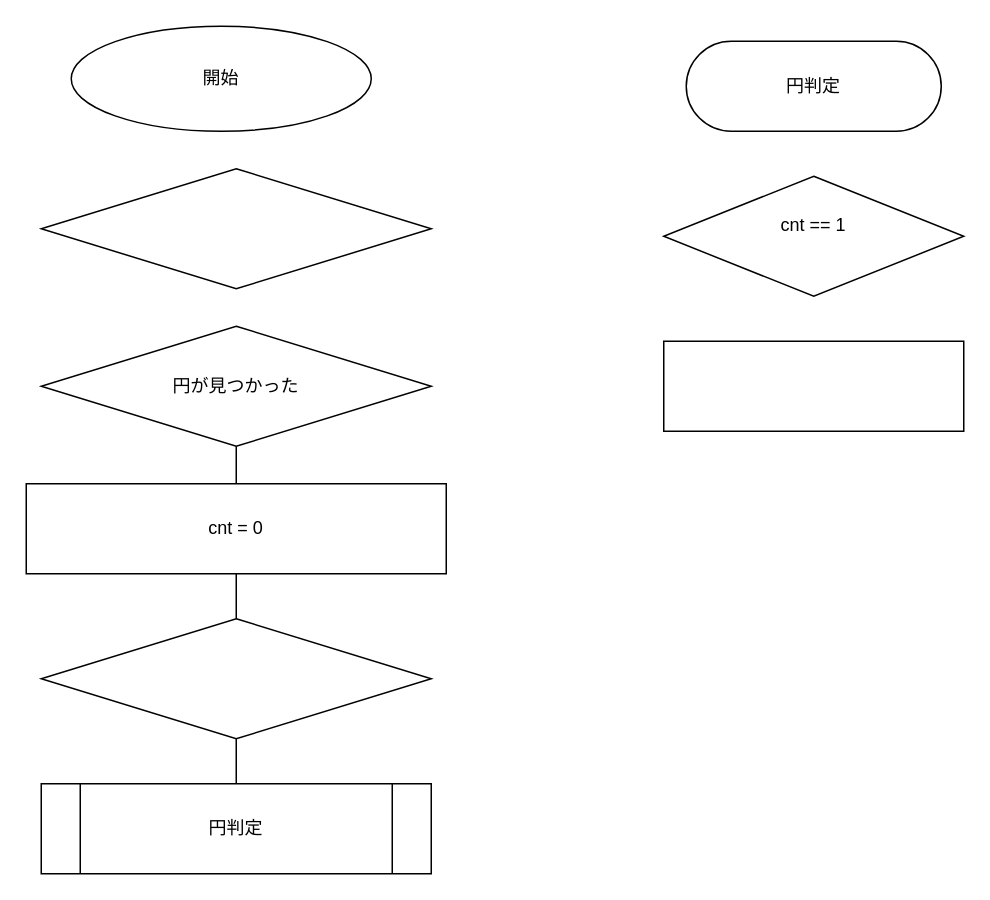
This 990x900 diagram has some shape labels left out. Each missing label, with the box of its shape:
cnt が 4になるまで OR flag == True: (40, 617, 431, 739)
dxfで円が見つからなくなるまで探す: (40, 167, 431, 289)
円のx座標 + 円の半径: (662, 340, 964, 431)
